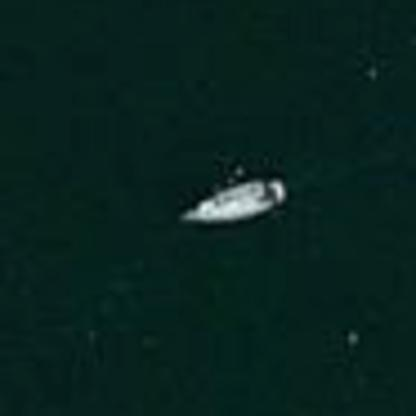ship: (166, 168, 299, 233)
